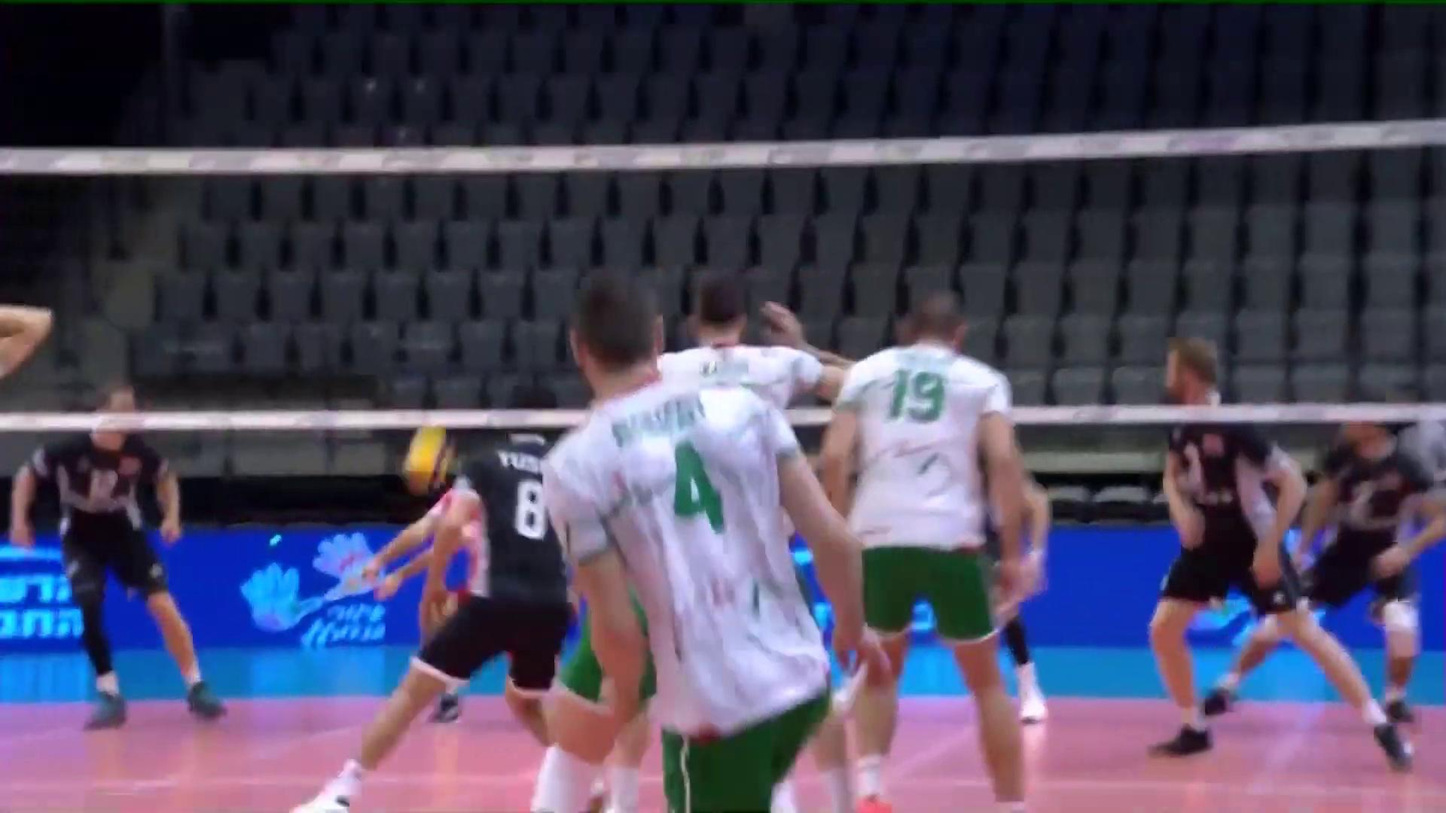ball: (403, 428, 459, 498)
